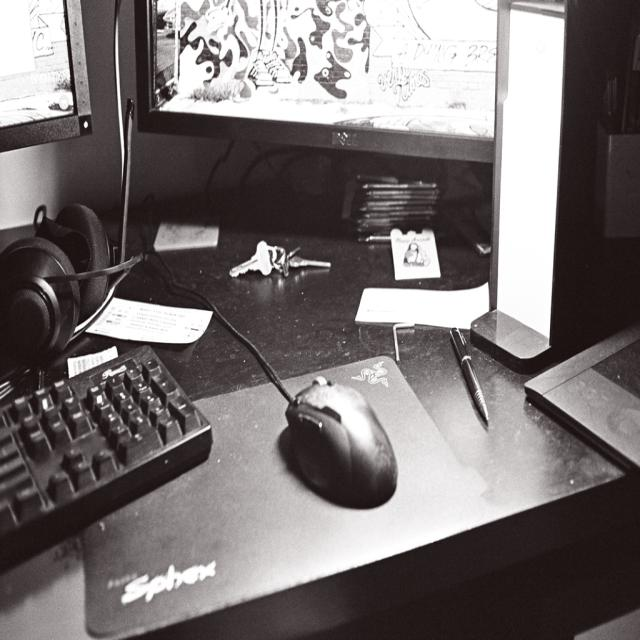Computer-mouse: (284, 374, 398, 504)
